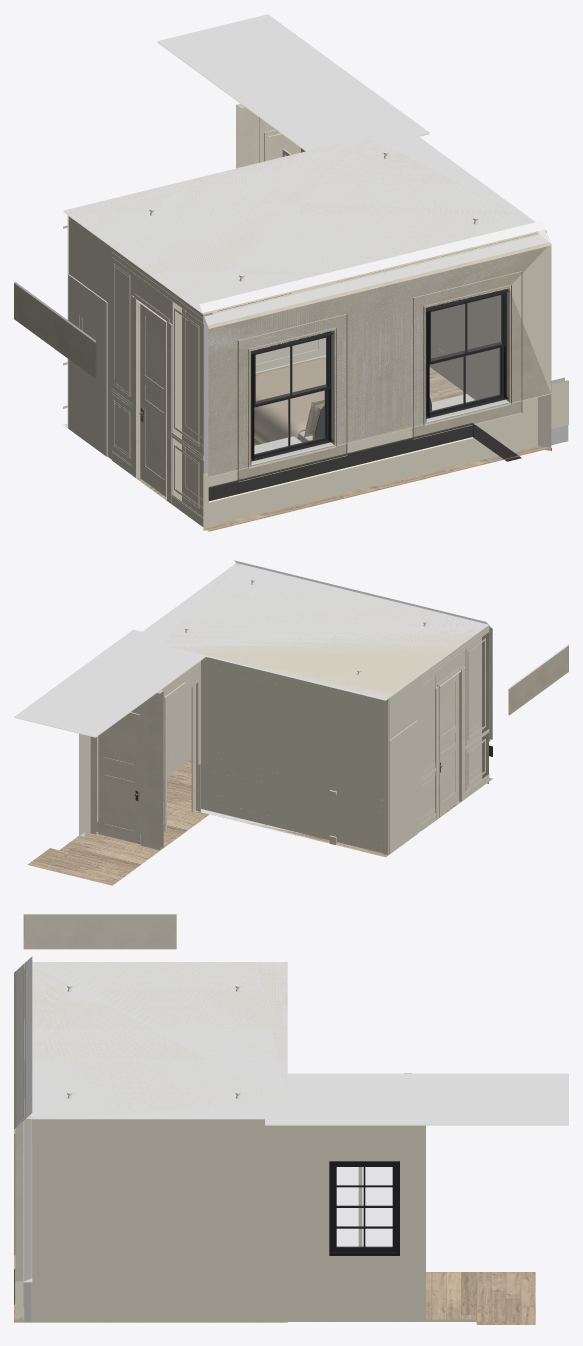
File: blue-bedroom-66f65374752b.glb
3 renders of one model, top to bottom at view 1: azimuth 30°, elevation 25°; view 2: azimuth 150°, elevation 25°; view 3: azimuth 270°, elevation 25°, orthographic. The views are drawn at different scales.
Parts seen in each view (by area): view 1: blue-bedroom-9d91b47435c6fb33, blue-bedroom-bddaf205afbd60c0, blue-bedroom-e8793759323e04f0, blue-bedroom-look-9d91b47435c6fb33, blue-bedroom-df3e1f21720b0c39, blue-bedroom-2f7d8eff34a2c180, blue-bedroom-ed5fdcd3ee9c0dd5, blue-bedroom-3c3de67e8dd93323, blue-bedroom-649b3532e9781727, blue-bedroom-64753ebcb3824a84, blue-bedroom-746250f96522f643, blue-bedroom-ead09a0b3f9e3bd9 (+16 smaller); view 2: blue-bedroom-6e269356ae8bfd70, blue-bedroom-9d91b47435c6fb33, blue-bedroom-e8793759323e04f0, blue-bedroom-look-9d91b47435c6fb33, blue-bedroom-ed5fdcd3ee9c0dd5, blue-bedroom-look-2575515a05775d9e, blue-bedroom-look-dcc0092055abeaa8, blue-bedroom-look-eb02897c2e79e2b1, blue-bedroom-ead09a0b3f9e3bd9, blue-bedroom-3e649b0d114ae387, blue-bedroom-bf159a19de53e60e, blue-bedroom-746250f96522f643 (+13 smaller); view 3: blue-bedroom-746250f96522f643, blue-bedroom-9d91b47435c6fb33, blue-bedroom-look-746250f96522f643, blue-bedroom-e8793759323e04f0, blue-bedroom-look-9d91b47435c6fb33, blue-bedroom-look-5035c6783c6505b3, blue-bedroom-look-2575515a05775d9e, blue-bedroom-look-3a4d9d62ecd7be1c, blue-bedroom-0a6e1f8a567f4490, blue-bedroom-64753ebcb3824a84, blue-bedroom-2575515a05775d9e, blue-bedroom-49f6d498b24b79cd.
Boxes of the visible parts, x1,y1,x2,y2 form: blue-bedroom-9d91b47435c6fb33: (63,127,538,314); blue-bedroom-bddaf205afbd60c0: (207,242,550,476); blue-bedroom-e8793759323e04f0: (64,138,545,312); blue-bedroom-look-9d91b47435c6fb33: (157,14,429,151); blue-bedroom-df3e1f21720b0c39: (208,243,551,475); blue-bedroom-2f7d8eff34a2c180: (203,393,551,530); blue-bedroom-ed5fdcd3ee9c0dd5: (67,215,181,500); blue-bedroom-3c3de67e8dd93323: (251,330,333,461); blue-bedroom-649b3532e9781727: (426,289,509,418); blue-bedroom-64753ebcb3824a84: (204,234,548,476); blue-bedroom-746250f96522f643: (398,234,532,399); blue-bedroom-ead09a0b3f9e3bd9: (68,274,107,456); blue-bedroom-6e269356ae8bfd70: (200,656,389,855); blue-bedroom-9d91b47435c6fb33: (134,564,488,700); blue-bedroom-e8793759323e04f0: (161,560,488,698); blue-bedroom-look-9d91b47435c6fb33: (14,629,205,737); blue-bedroom-ed5fdcd3ee9c0dd5: (382,641,465,854); blue-bedroom-look-2575515a05775d9e: (27,803,209,885); blue-bedroom-look-dcc0092055abeaa8: (98,712,140,844); blue-bedroom-look-eb02897c2e79e2b1: (90,690,163,850); blue-bedroom-ead09a0b3f9e3bd9: (389,720,417,854); blue-bedroom-3e649b0d114ae387: (465,625,488,790); blue-bedroom-bf159a19de53e60e: (440,673,458,814); blue-bedroom-746250f96522f643: (161,672,191,779); blue-bedroom-746250f96522f643: (32,1119,287,1319); blue-bedroom-9d91b47435c6fb33: (24,962,287,1119); blue-bedroom-look-746250f96522f643: (287,1125,425,1319); blue-bedroom-e8793759323e04f0: (25,956,287,1118); blue-bedroom-look-9d91b47435c6fb33: (265,1073,568,1125); blue-bedroom-look-5035c6783c6505b3: (329,1161,399,1255); blue-bedroom-look-2575515a05775d9e: (287,1272,535,1324); blue-bedroom-look-3a4d9d62ecd7be1c: (23,914,176,949); blue-bedroom-0a6e1f8a567f4490: (15,1121,22,1281); blue-bedroom-64753ebcb3824a84: (16,964,23,1126); blue-bedroom-2575515a05775d9e: (14,1269,287,1322); blue-bedroom-49f6d498b24b79cd: (24,1118,30,1281).
Bounding box in the file's own units: 6.73 × 3.04 × 7.3.
Materials: 36 (9 with a texture image).
